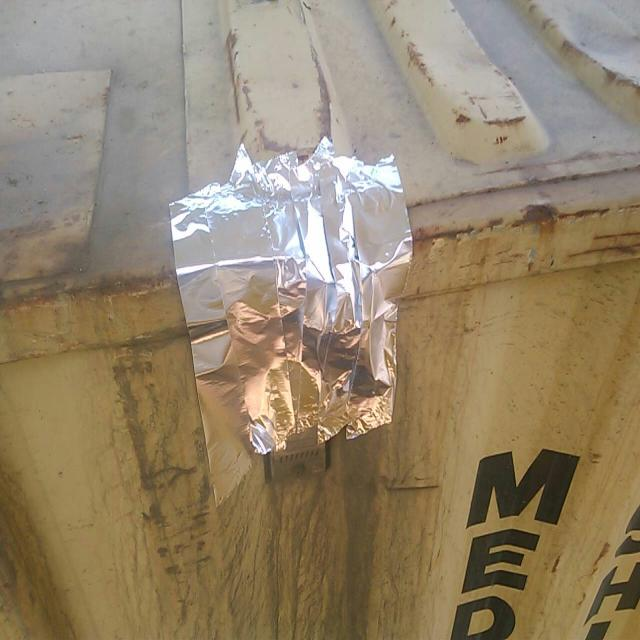rust: (511, 196, 613, 236), (415, 223, 478, 252)
